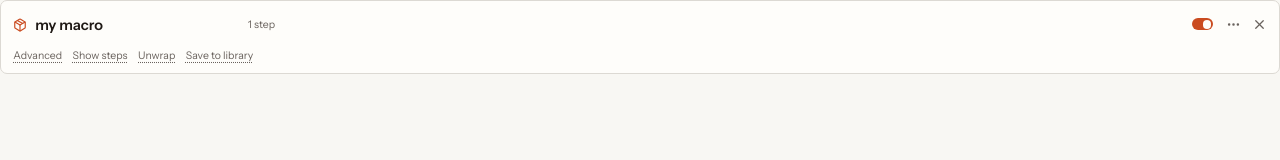
<MacroCard /> › saves the macro to the library with a deep clone and confirms via aria-live
Click the button "Save to library": (220, 56) [186, 47, 253, 64]
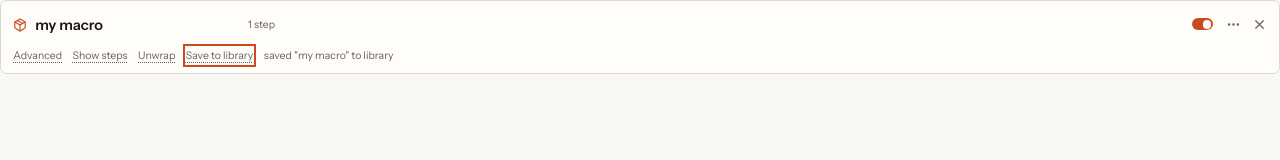
Now the text "saved \"my macro\" to library" is shown, box [264, 48, 394, 62]
